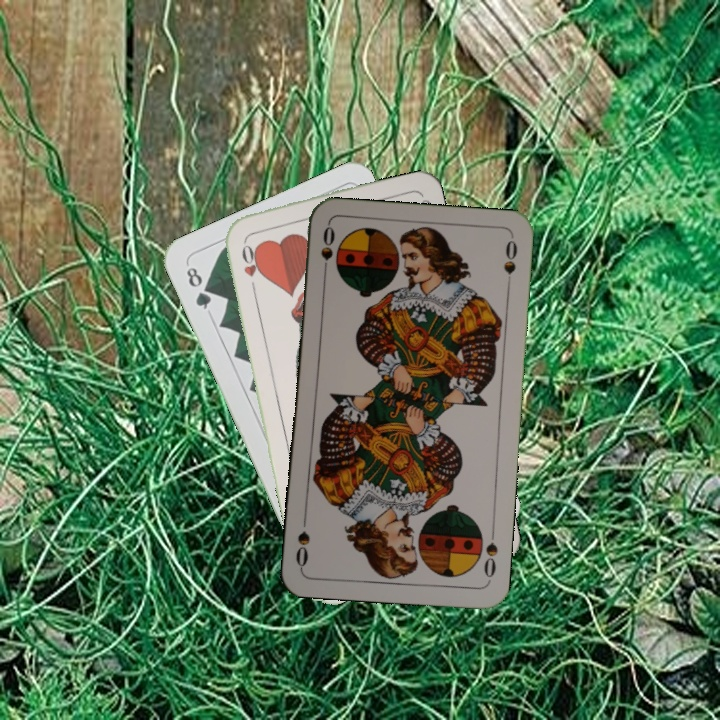G8: (182, 263, 214, 312)
HO: (237, 235, 261, 294)
SO: (316, 222, 338, 281), (480, 524, 500, 583)
